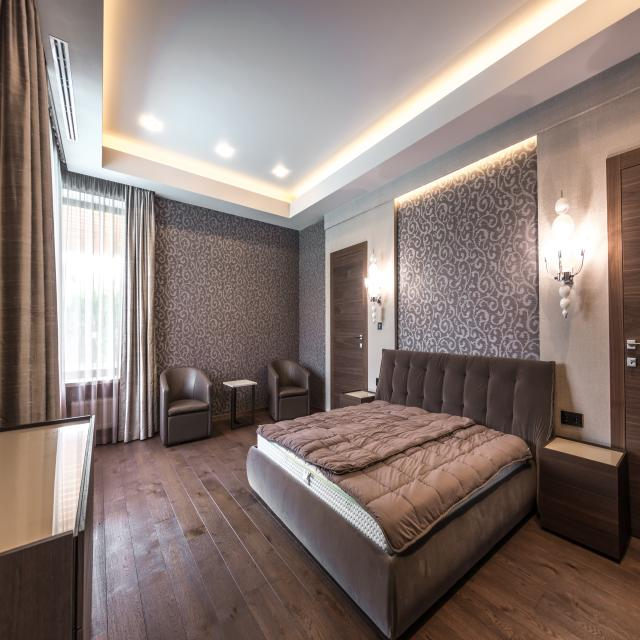floor: (88, 404, 388, 640), (397, 503, 640, 640)
wall: (324, 51, 640, 448), (154, 196, 300, 422), (395, 136, 539, 361), (299, 218, 325, 410)
